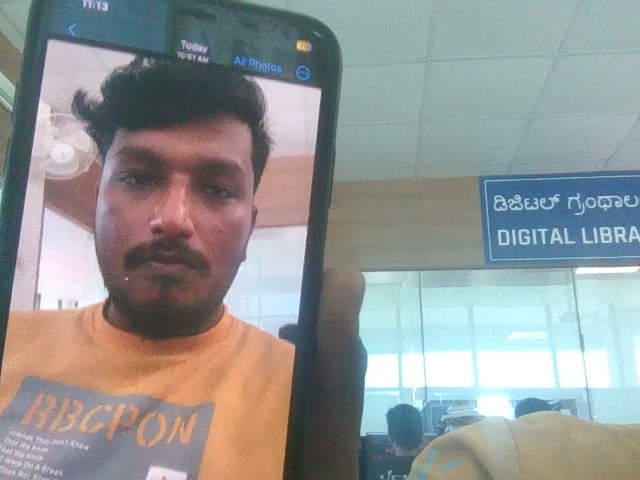fake: (68, 27, 291, 343)
